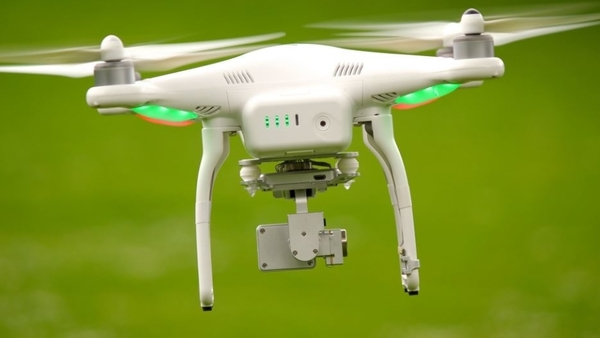drone: (59, 7, 521, 313)
